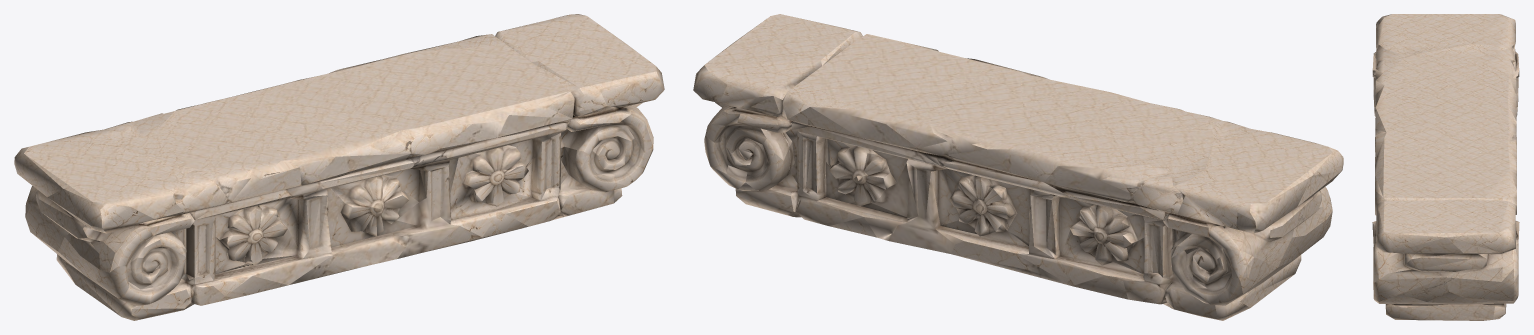
File: marble-capital.glb
3 views of the same model, side by side, from view 1: azimuth 30°, elevation 25°; view 2: azimuth 150°, elevation 25°; view 3: azimuth 270°, elevation 25° (orthographic). The views are drawn at different scales.
Visible parts, largest first — view 1: marble-capital; view 2: marble-capital; view 3: marble-capital.
Boxes of the visible parts, bbox=[...] form: marble-capital: bbox=[14, 14, 664, 320]; marble-capital: bbox=[693, 14, 1343, 320]; marble-capital: bbox=[1372, 14, 1519, 320].
Bounding box in the file's own units: 1.9 × 0.4113 × 0.5309.
1 material, 1 textured.
